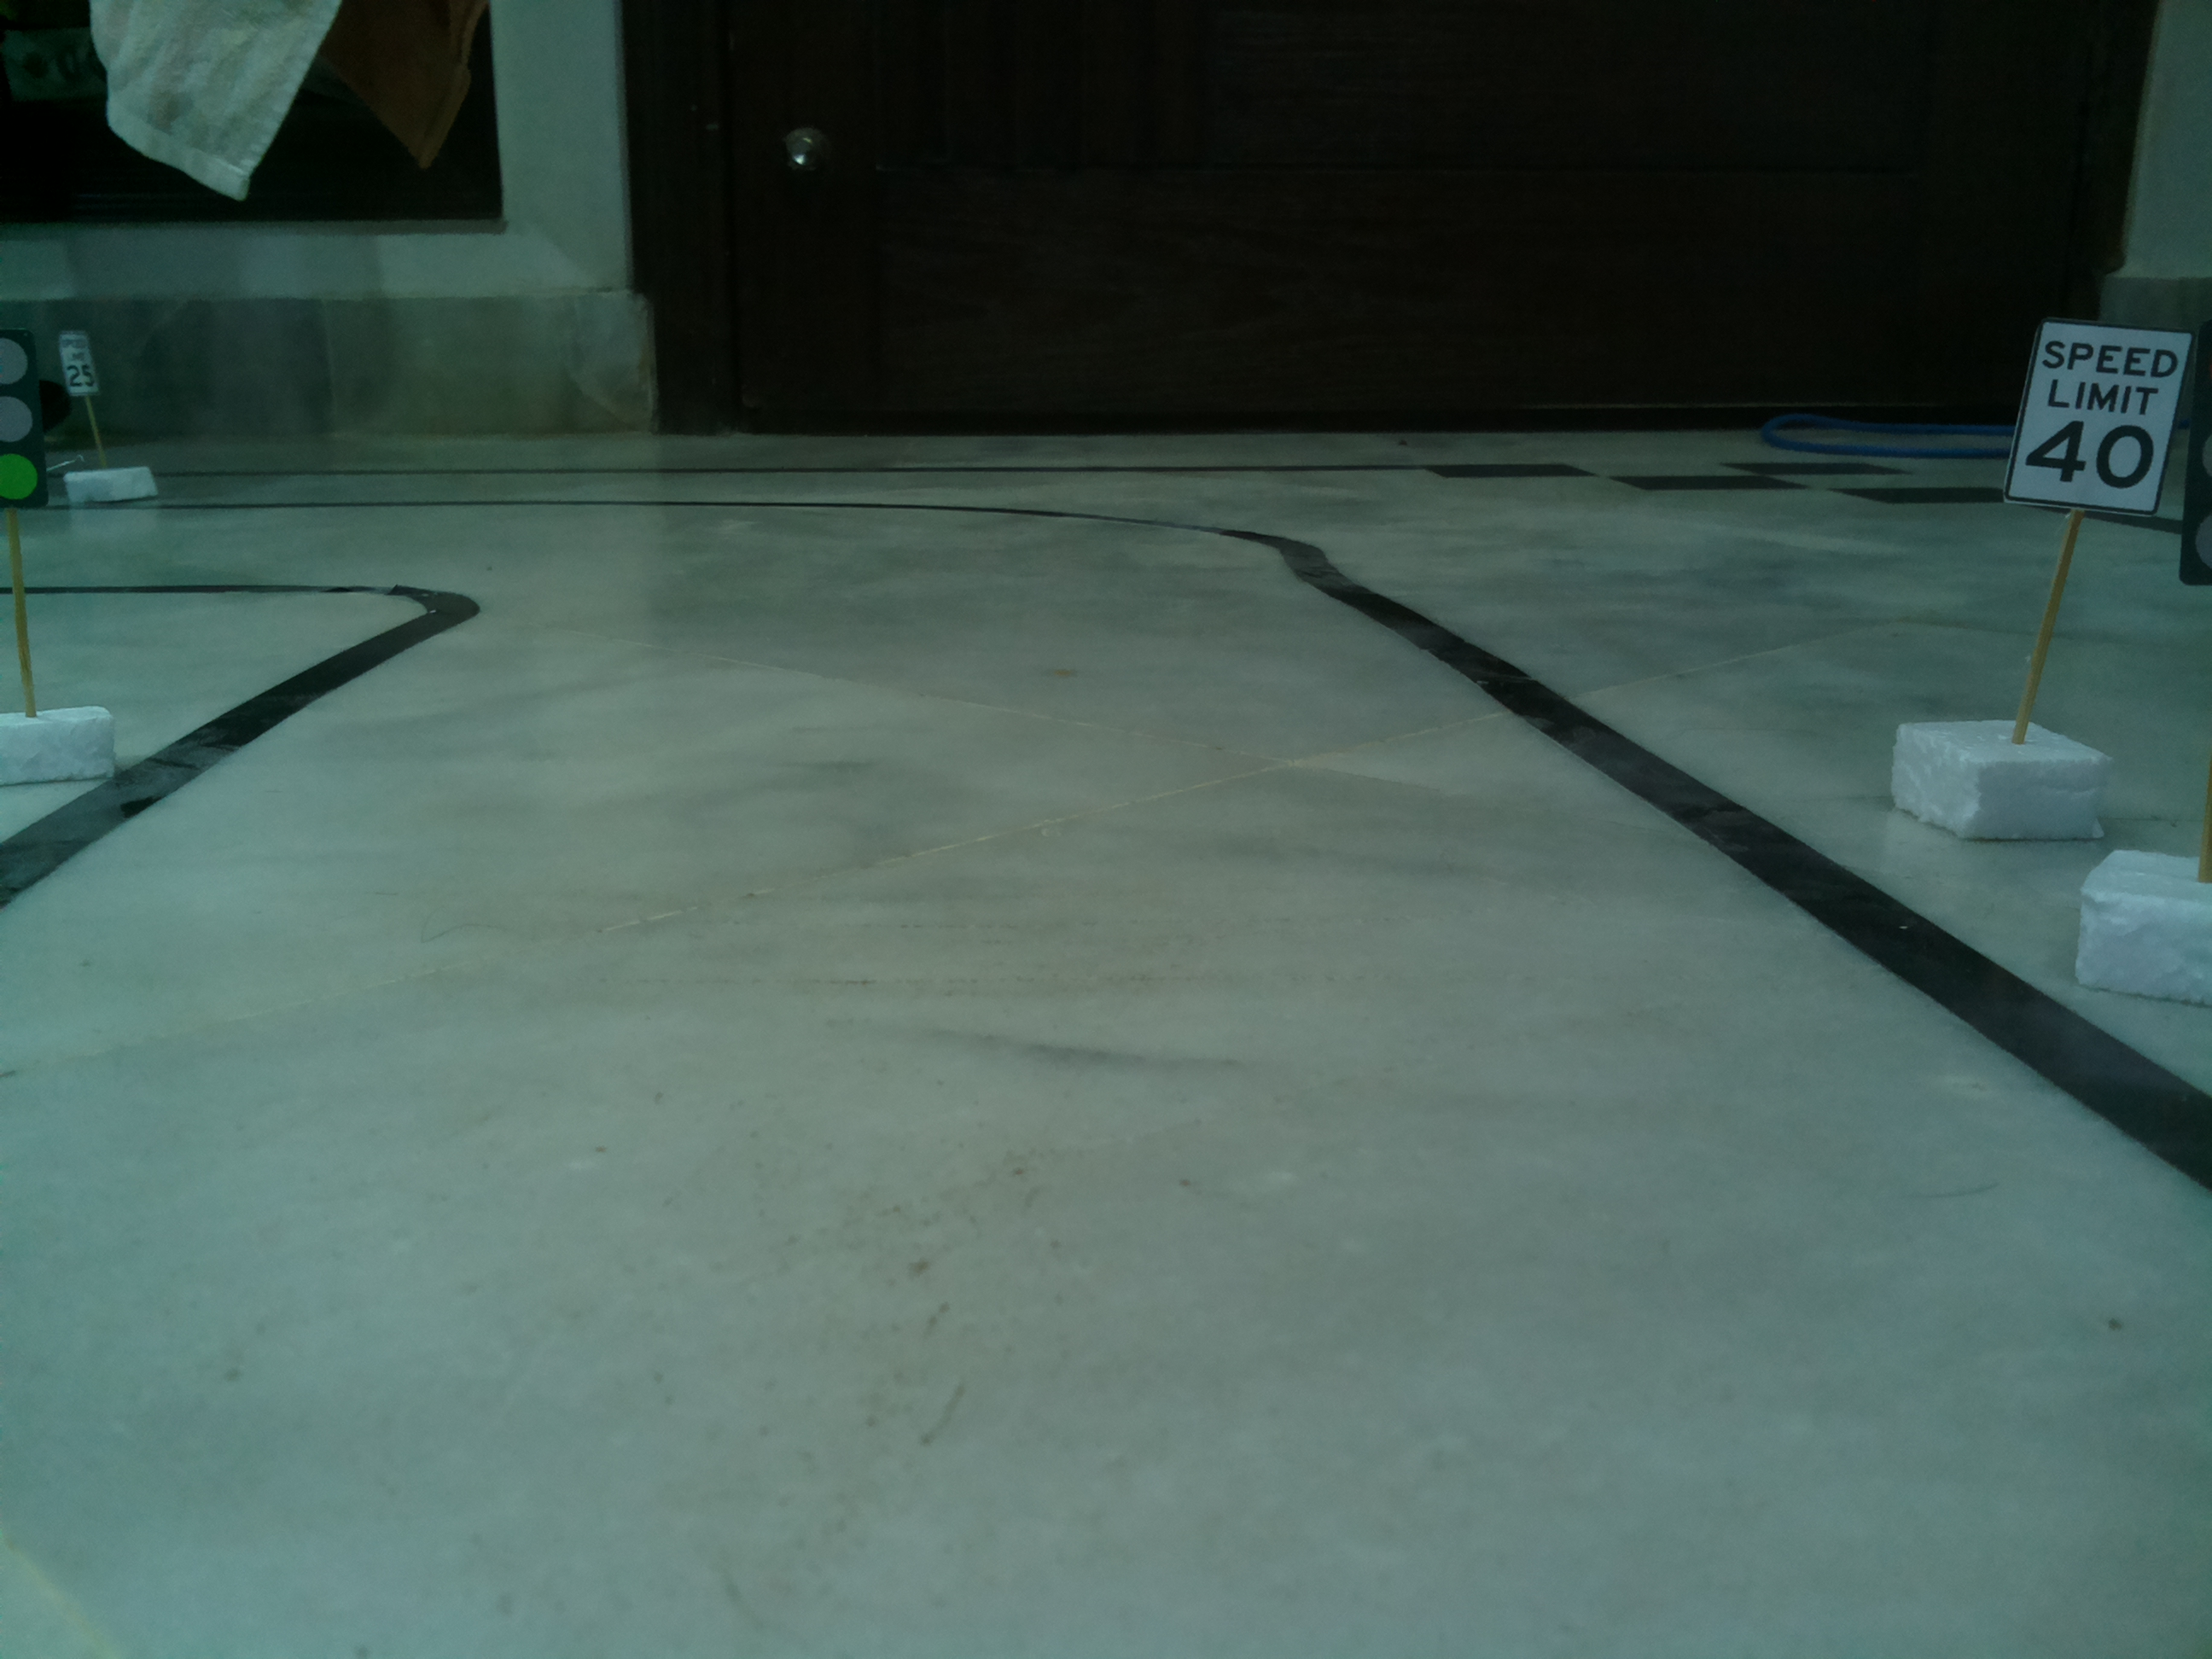Green traffic light: (2, 333, 49, 518)
Speed limit 40: (1996, 312, 2202, 518)
